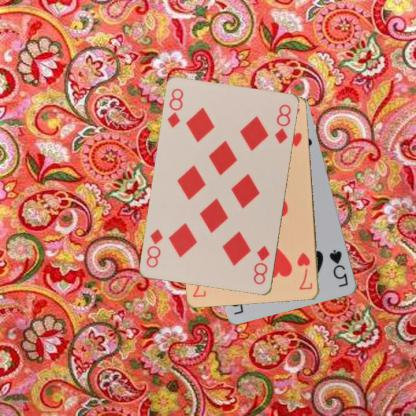5s: (327, 247, 350, 289)
7h: (294, 250, 314, 292)
8d: (250, 243, 272, 286), (165, 86, 185, 130)
